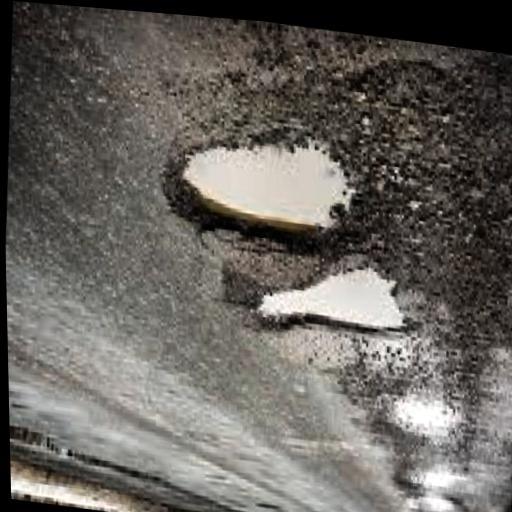pothole: (246, 125, 512, 414), (122, 64, 309, 215)
